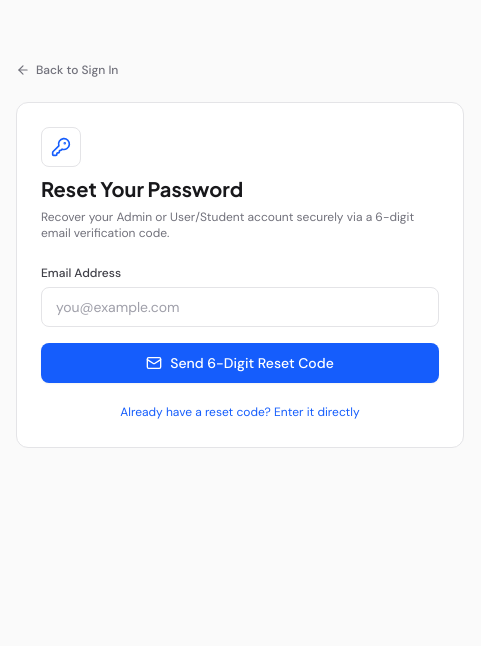
Portfolio Core Flows › completes forgot password OTP request and reset password flow with password visibility toggle
Type "student@example.com" into the field labelled "Email Address" at coordinates (240, 307), box [41,287,439,327]
Click the button "Send 6-Digit Reset Code" at coordinates (240, 363), box [41,343,439,383]
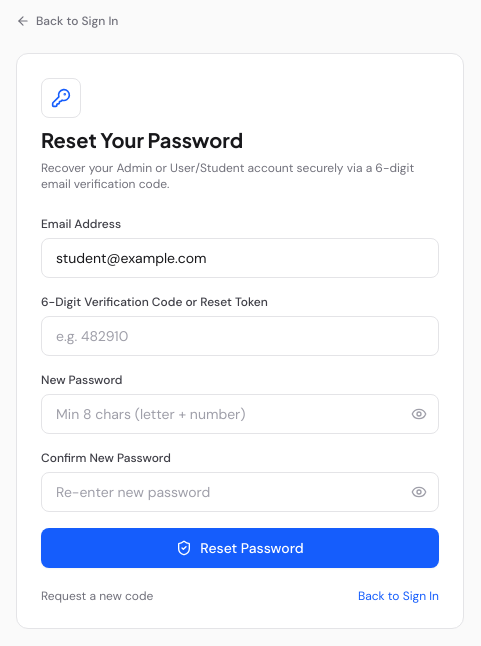
Click the 1st button named "show password" at coordinates (419, 414), box [399,394,439,434]
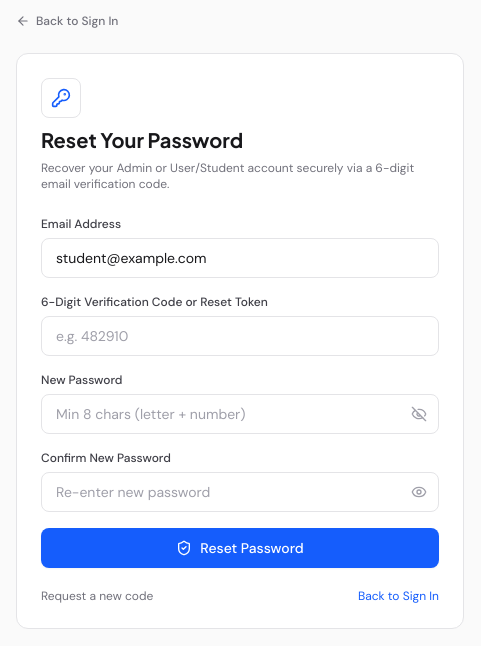
Type "482910" into the field labelled "6-Digit Verification Code or Reset Token" at coordinates (240, 336), box [41,316,439,356]
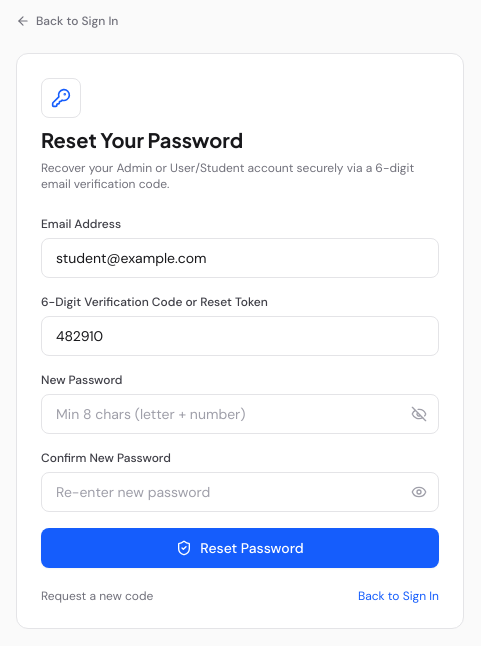
Type "StrongPass123" into the field labelled "New Password" at coordinates (240, 414), box [41,394,439,434]
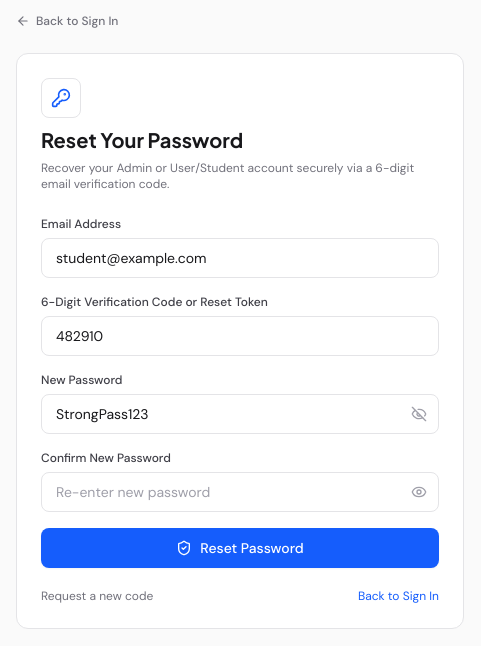
Type "StrongPass123" into the password field labelled "Confirm New Password" at coordinates (240, 492), box [41,472,439,512]
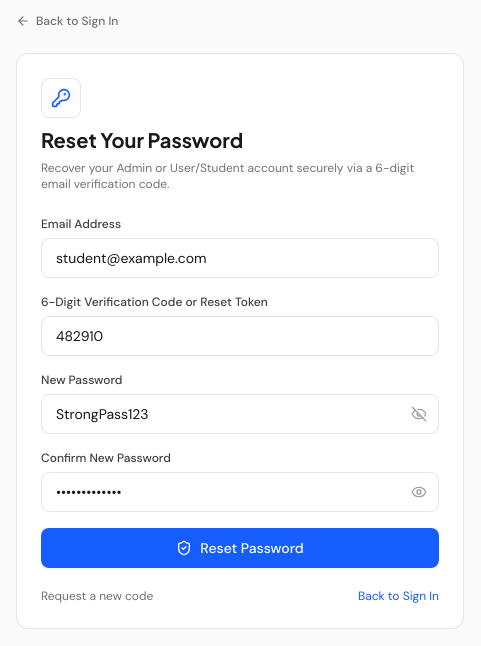
Click the button "Reset Password" at coordinates (240, 548), box [41,528,439,568]
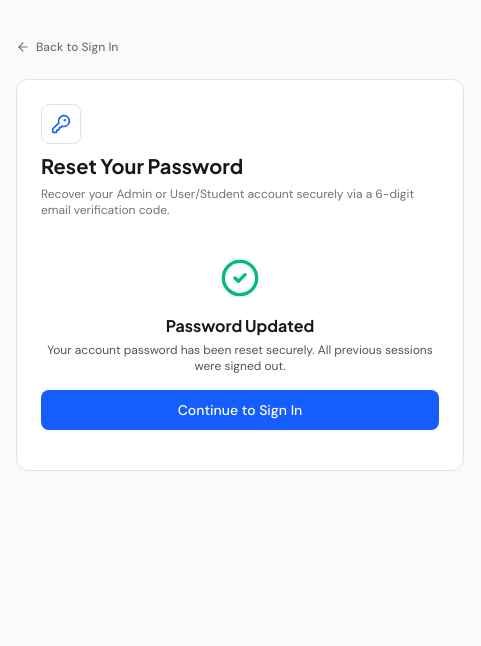
Now the heading "Password Updated" is shown, box [166,315,314,336]
